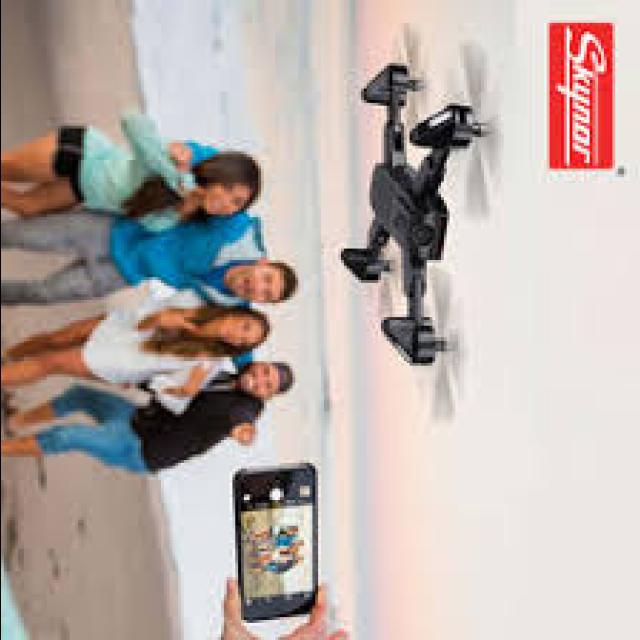drone: (306, 25, 511, 415)
